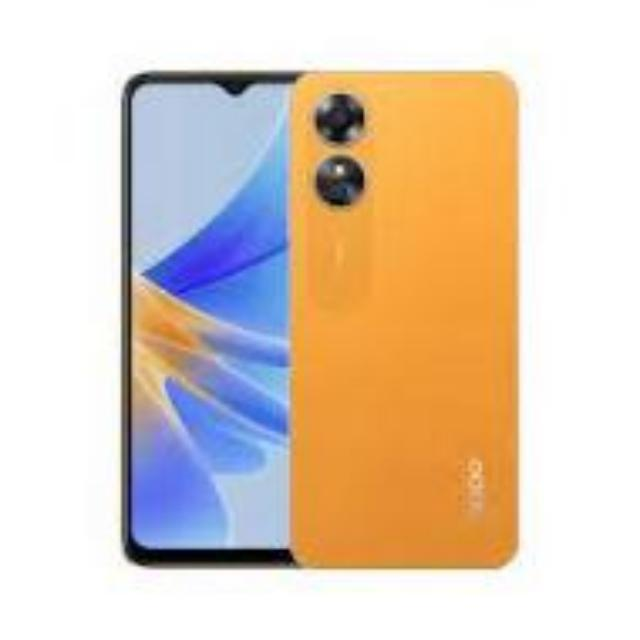Phone: (290, 70, 518, 570), (118, 71, 286, 569)
